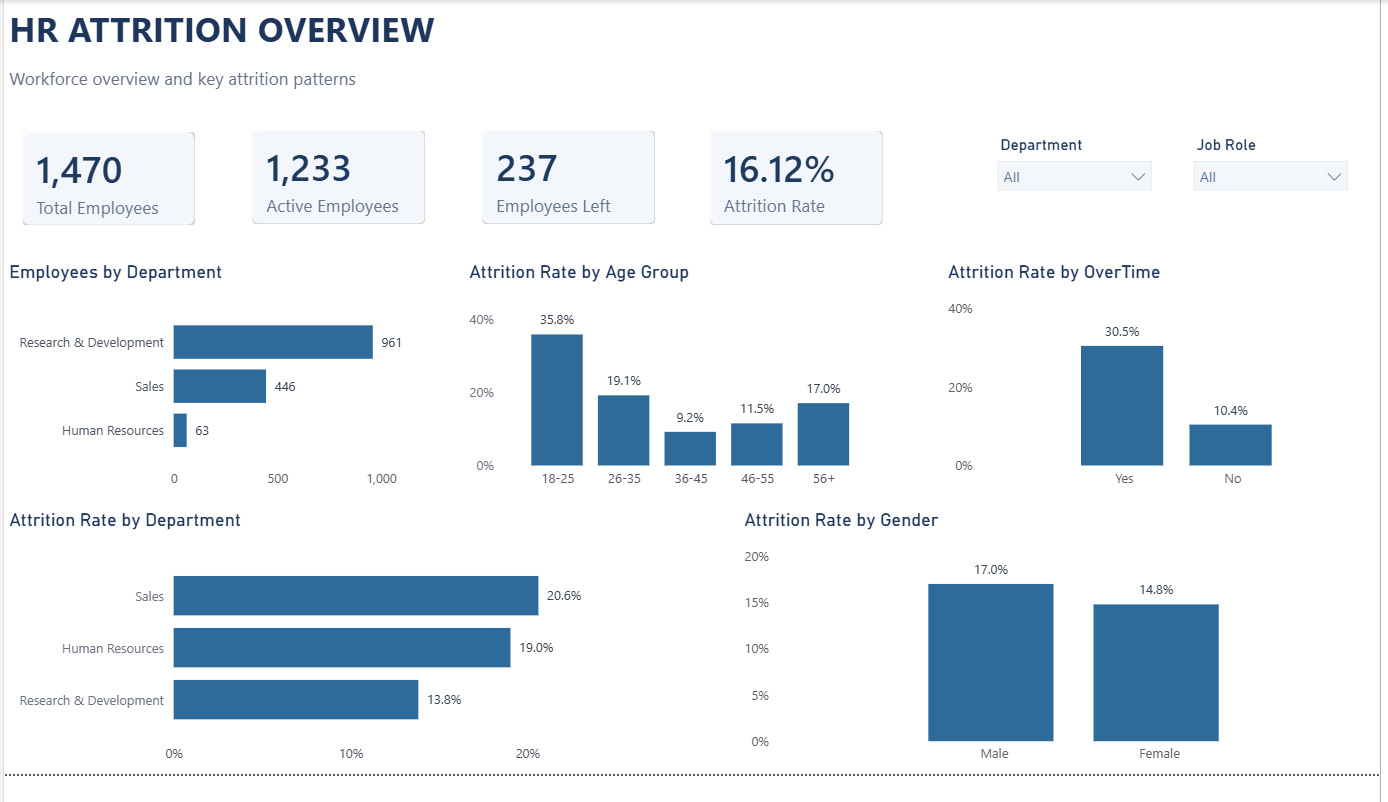

The dashboard page shown, as its layout file describes it:
{"tool":"powerbi","page":{"name":"Attrition Overview","canvas":[1280,720],"ordinal":0},"visuals":[{"type":"cardVisual","fields":{"Data":["WA_Fn-UseC_-HR-Employee-Attrition.Total Employees"]},"box":[0,105.4,195.4,121.5],"z":0},{"type":"clusteredBarChart","title":"Employees by Department","fields":{"Category":["WA_Fn-UseC_-HR-Employee-Attrition.Department"],"Y":["WA_Fn-UseC_-HR-Employee-Attrition.Total Employees"]},"box":[0,242.5,391.2,220],"z":1000},{"type":"clusteredBarChart","fields":{"Y":["WA_Fn-UseC_-HR-Employee-Attrition.Attrition Rate"],"Category":["WA_Fn-UseC_-HR-Employee-Attrition.Department"]},"box":[0,473.8,586.2,246.2],"z":2000},{"type":"clusteredColumnChart","fields":{"Y":["WA_Fn-UseC_-HR-Employee-Attrition.Attrition Rate"],"Category":["WA_Fn-UseC_-HR-Employee-Attrition.Age Group"]},"box":[427.5,242.5,390,220],"z":3000},{"type":"clusteredColumnChart","fields":{"Y":["WA_Fn-UseC_-HR-Employee-Attrition.Attrition Rate"],"Category":["WA_Fn-UseC_-HR-Employee-Attrition.Gender"]},"box":[683.8,473.8,596.2,246.2],"z":4000},{"type":"clusteredColumnChart","fields":{"Y":["WA_Fn-UseC_-HR-Employee-Attrition.Attrition Rate"],"Category":["WA_Fn-UseC_-HR-Employee-Attrition.OverTime"]},"box":[873.8,242.5,406.2,220],"z":5000},{"type":"textbox","box":[0,0,437.5,57.5],"z":6000},{"type":"textbox","box":[0,57.5,427.5,35],"z":7000},{"type":"cardVisual","fields":{"Data":["WA_Fn-UseC_-HR-Employee-Attrition.Active Employees"]},"box":[213.8,105,195.4,121.5],"z":8000},{"type":"cardVisual","fields":{"Data":["WA_Fn-UseC_-HR-Employee-Attrition.Employees Left"]},"box":[427.5,105,195.4,121.5],"z":9000},{"type":"cardVisual","fields":{"Data":["WA_Fn-UseC_-HR-Employee-Attrition.Attrition Rate"]},"box":[640,105,195,122.5],"z":10000},{"type":"slicer","fields":{"Values":["WA_Fn-UseC_-HR-Employee-Attrition.Department"]},"box":[913.8,121.2,163.8,88.8],"z":11000},{"type":"slicer","fields":{"Values":["WA_Fn-UseC_-HR-Employee-Attrition.JobRole"]},"box":[1096.2,121.2,163.8,88.8],"z":12000}]}

Visuals, with their boxes in screenshot pixels (x1, y1, x2, y2), scaled from the page's 1280x720 canvas onto the 1388x802 screenshot:
cardVisual - WA_Fn-UseC_-HR-Employee-Attrition.Total Employees: [0,117,212,253]
"Employees by Department" clusteredBarChart: [0,270,424,515]
clusteredBarChart - WA_Fn-UseC_-HR-Employee-Attrition.Attrition Rate x WA_Fn-UseC_-HR-Employee-Attrition.Department: [0,528,636,801]
clusteredColumnChart - WA_Fn-UseC_-HR-Employee-Attrition.Attrition Rate x WA_Fn-UseC_-HR-Employee-Attrition.Age Group: [464,270,886,515]
clusteredColumnChart - WA_Fn-UseC_-HR-Employee-Attrition.Attrition Rate x WA_Fn-UseC_-HR-Employee-Attrition.Gender: [741,528,1387,801]
clusteredColumnChart - WA_Fn-UseC_-HR-Employee-Attrition.Attrition Rate x WA_Fn-UseC_-HR-Employee-Attrition.OverTime: [948,270,1387,515]
textbox: [0,0,474,64]
textbox: [0,64,464,103]
cardVisual - WA_Fn-UseC_-HR-Employee-Attrition.Active Employees: [232,117,444,252]
cardVisual - WA_Fn-UseC_-HR-Employee-Attrition.Employees Left: [464,117,675,252]
cardVisual - WA_Fn-UseC_-HR-Employee-Attrition.Attrition Rate: [694,117,905,253]
slicer - WA_Fn-UseC_-HR-Employee-Attrition.Department: [991,135,1169,234]
slicer - WA_Fn-UseC_-HR-Employee-Attrition.JobRole: [1189,135,1366,234]
